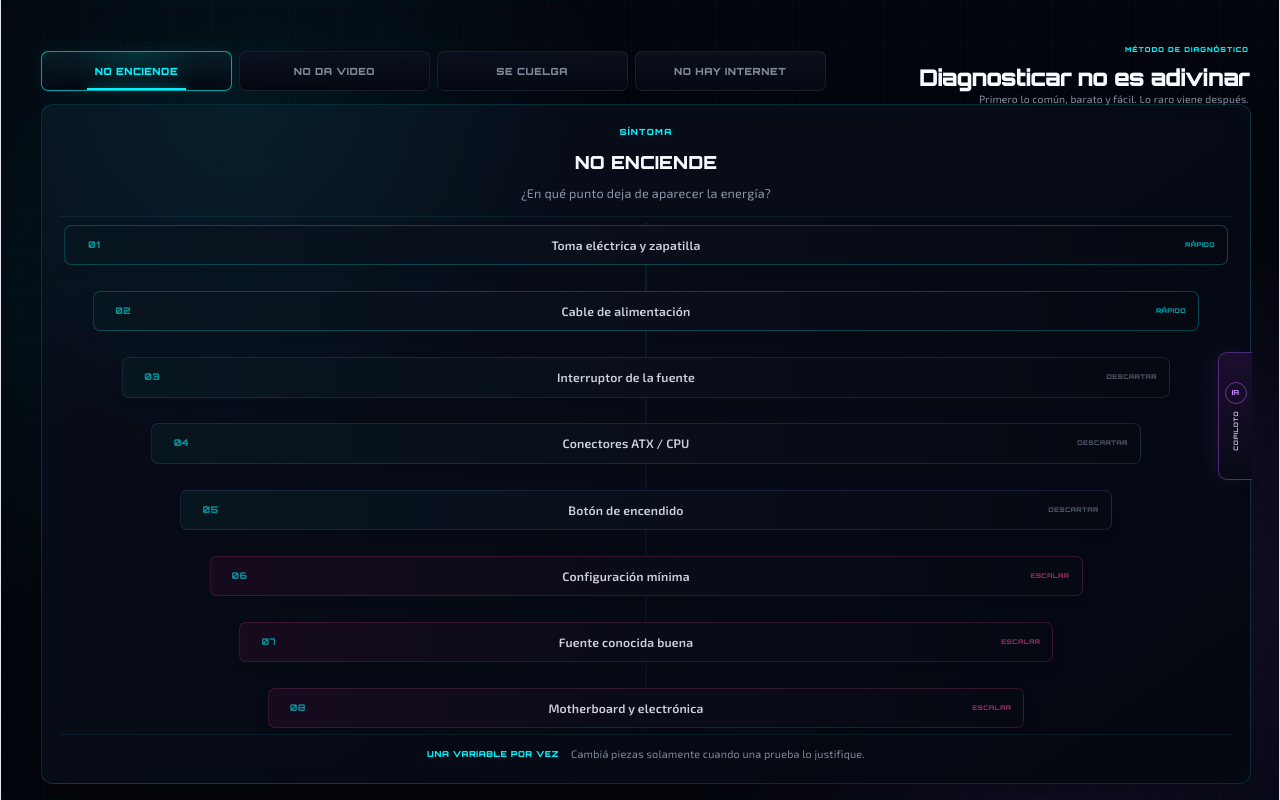
Test: DiagnosticMindsetScene › muestra la ayuda con IA al abrir el copiloto
This screenshot has width=1280, height=800.
Click the button "IA COPILOTO": (1235, 416) [1218,352,1252,480]
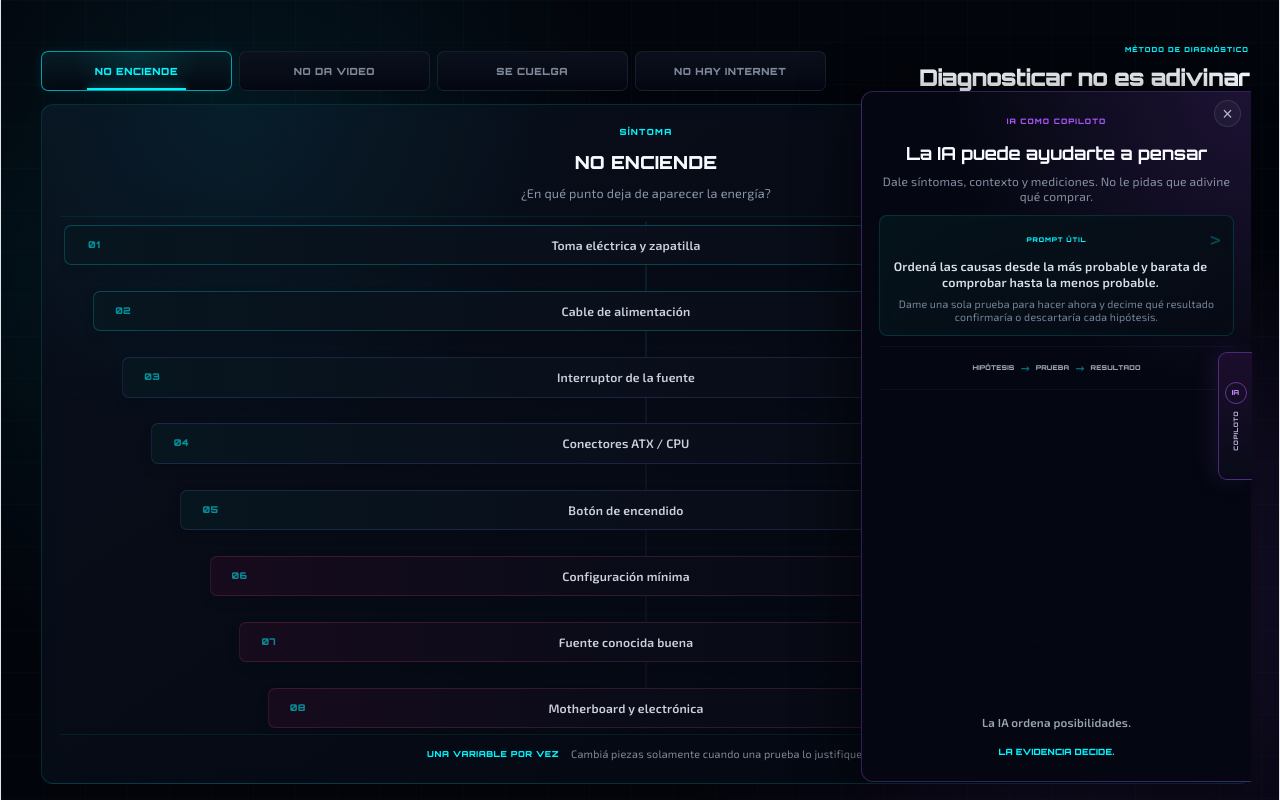
Now the heading "La IA puede ayudarte a pensar" is shown, box [906,142,1207,164]
Now the text "Ordená las causas desde la más probable" is shown, box [894,259,1207,289]
